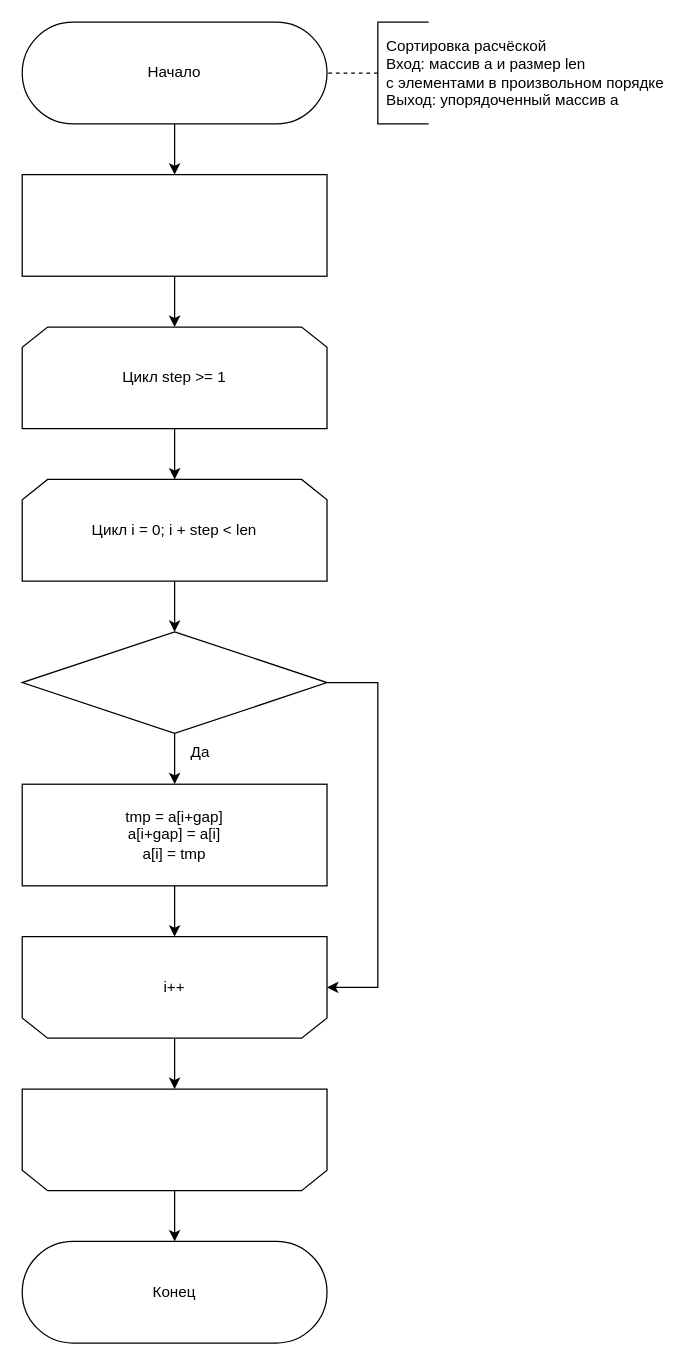
Some shapes in this 687 by 1365 pixel diagram are drawn without their labels. Here are the shapes that lost their labels. From the top down, the centre of each, then its label:
At pixel 174 224: "step = len - 1".
At pixel 174 682: "a[i+gap] < a[i]".
At pixel 174 1139: "step = step * 10 / 13".
